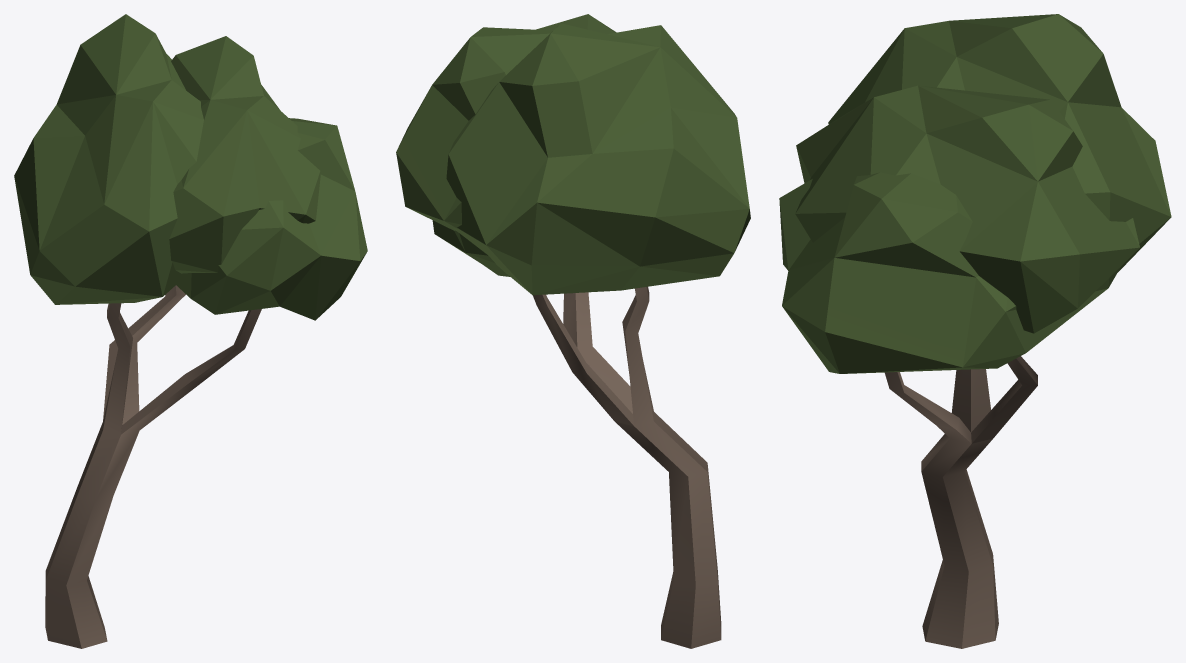
File: LoofboomHoog1.fbx
The picture shows the model from 3 angles, left to right: view 1: azimuth 30°, elevation 25°; view 2: azimuth 150°, elevation 25°; view 3: azimuth 270°, elevation 25°; orthographic projection. The views are drawn at different scales.
Parts seen in each view (by area): view 1: polySurface3145; view 2: polySurface3145; view 3: polySurface3145.
Part boxes in pixels (<box>): polySurface3145: <box>14,14,367,648</box>; polySurface3145: <box>396,14,750,648</box>; polySurface3145: <box>779,14,1171,648</box>.
Bounding box in the file's own units: 6.24 × 11.84 × 6.28.
